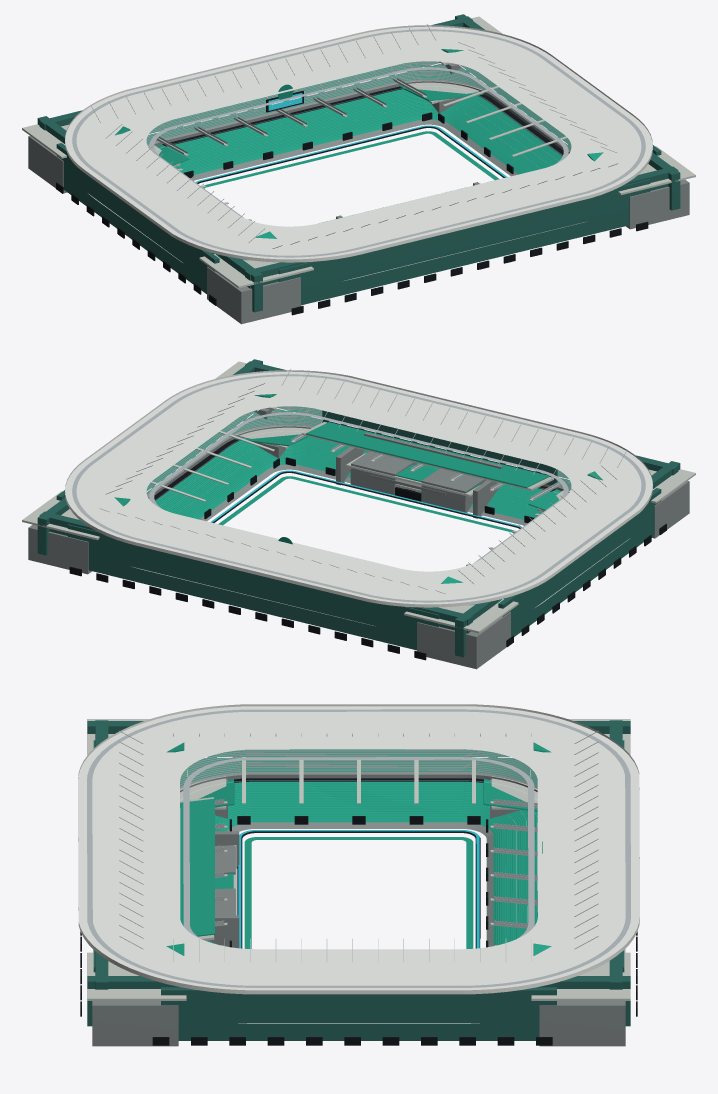
The model's file is stadium_architectural_complete.glb.
The picture shows the model from 3 angles, top to bottom: view 1: azimuth 30°, elevation 25°; view 2: azimuth 150°, elevation 25°; view 3: azimuth 270°, elevation 25°; orthographic projection. The views are drawn at different scales.
Visible parts, largest first — view 1: arch_roof_single_continuous_skin_TEAM_SECONDARY, arch_south_rear_grandstand_wall_TEAM_ACCENT, arch_lower_seat_carpet_TEAM_PRIMARY, arch_upper_solid_bowl_shell, arch_west_rear_grandstand_wall_TEAM_ACCENT, arch_roof_rear_steel_lip, arch_roof_outer_thick_edge_TEAM_SECONDARY, arch_corner_deep_foundation_block_-1_-1, arch_lower_solid_bowl_shell, arch_roof_front_steel_lip, arch_corner_deep_foundation_block_1_-1, arch_mid_shadow_concourse (+12 smaller); view 2: arch_roof_single_continuous_skin_TEAM_SECONDARY, arch_north_rear_grandstand_wall_TEAM_ACCENT, arch_lower_seat_carpet_TEAM_PRIMARY, arch_west_rear_grandstand_wall_TEAM_ACCENT, arch_roof_rear_steel_lip, arch_tunnel_overbuild_seat_deck_TEAM_PRIMARY, arch_roof_outer_thick_edge_TEAM_SECONDARY, arch_corner_deep_foundation_block_-1_1, arch_upper_solid_bowl_shell, arch_tunnel_rear_opaque_wall_TEAM_ACCENT, arch_roof_front_steel_lip, arch_corner_deep_foundation_block_1_1 (+19 smaller); view 3: arch_roof_single_continuous_skin_TEAM_SECONDARY, arch_east_rear_grandstand_wall_TEAM_ACCENT, arch_lower_seat_carpet_TEAM_PRIMARY, arch_upper_solid_bowl_shell, arch_roof_rear_steel_lip, arch_roof_outer_thick_edge_TEAM_SECONDARY, arch_tunnel_overbuild_seat_deck_TEAM_PRIMARY, arch_corner_deep_foundation_block_1_1, arch_corner_deep_foundation_block_1_-1, arch_roof_front_steel_lip, arch_lower_solid_bowl_shell, arch_inner_team_apron_TEAM_PRIMARY (+21 smaller).
Part boxes in pixels (x1,y1,x2,y2): arch_roof_single_continuous_skin_TEAM_SECONDARY: (65,26,652,259); arch_south_rear_grandstand_wall_TEAM_ACCENT: (278,179,650,305); arch_lower_seat_carpet_TEAM_PRIMARY: (166,89,562,174); arch_upper_solid_bowl_shell: (146,61,571,151); arch_west_rear_grandstand_wall_TEAM_ACCENT: (56,143,219,293); arch_roof_rear_steel_lip: (72,29,645,257); arch_roof_outer_thick_edge_TEAM_SECONDARY: (65,25,652,262); arch_corner_deep_foundation_block_-1_-1: (207,266,300,324); arch_lower_solid_bowl_shell: (190,119,518,180); arch_roof_front_steel_lip: (149,67,568,217); arch_corner_deep_foundation_block_1_-1: (626,179,689,229); arch_mid_shadow_concourse: (162,86,563,155); arch_roof_single_continuous_skin_TEAM_SECONDARY: (65,371,652,604); arch_north_rear_grandstand_wall_TEAM_ACCENT: (67,524,439,650); arch_lower_seat_carpet_TEAM_PRIMARY: (155,436,551,519); arch_west_rear_grandstand_wall_TEAM_ACCENT: (498,488,661,636); arch_roof_rear_steel_lip: (72,374,645,602); arch_tunnel_overbuild_seat_deck_TEAM_PRIMARY: (306,422,549,488); arch_roof_outer_thick_edge_TEAM_SECONDARY: (65,370,652,607); arch_corner_deep_foundation_block_-1_1: (417,611,510,669); arch_upper_solid_bowl_shell: (146,406,571,496); arch_tunnel_rear_opaque_wall_TEAM_ACCENT: (322,410,557,485); arch_roof_front_steel_lip: (149,412,568,562); arch_corner_deep_foundation_block_1_1: (28,524,91,574); arch_roof_single_continuous_skin_TEAM_SECONDARY: (78,706,639,990); arch_east_rear_grandstand_wall_TEAM_ACCENT: (161,987,556,1040); arch_lower_seat_carpet_TEAM_PRIMARY: (207,781,537,945); arch_upper_solid_bowl_shell: (180,749,537,788); arch_roof_rear_steel_lip: (87,709,630,987); arch_roof_outer_thick_edge_TEAM_SECONDARY: (78,704,639,994); arch_tunnel_overbuild_seat_deck_TEAM_PRIMARY: (180,798,214,936); arch_corner_deep_foundation_block_1_1: (539,1001,625,1046); arch_corner_deep_foundation_block_1_-1: (92,1001,178,1046); arch_roof_front_steel_lip: (183,757,534,938); arch_lower_solid_bowl_shell: (227,822,493,946); arch_inner_team_apron_TEAM_PRIMARY: (244,837,473,948).
Size of the model in its own units: 252 by 25.47 by 216.
